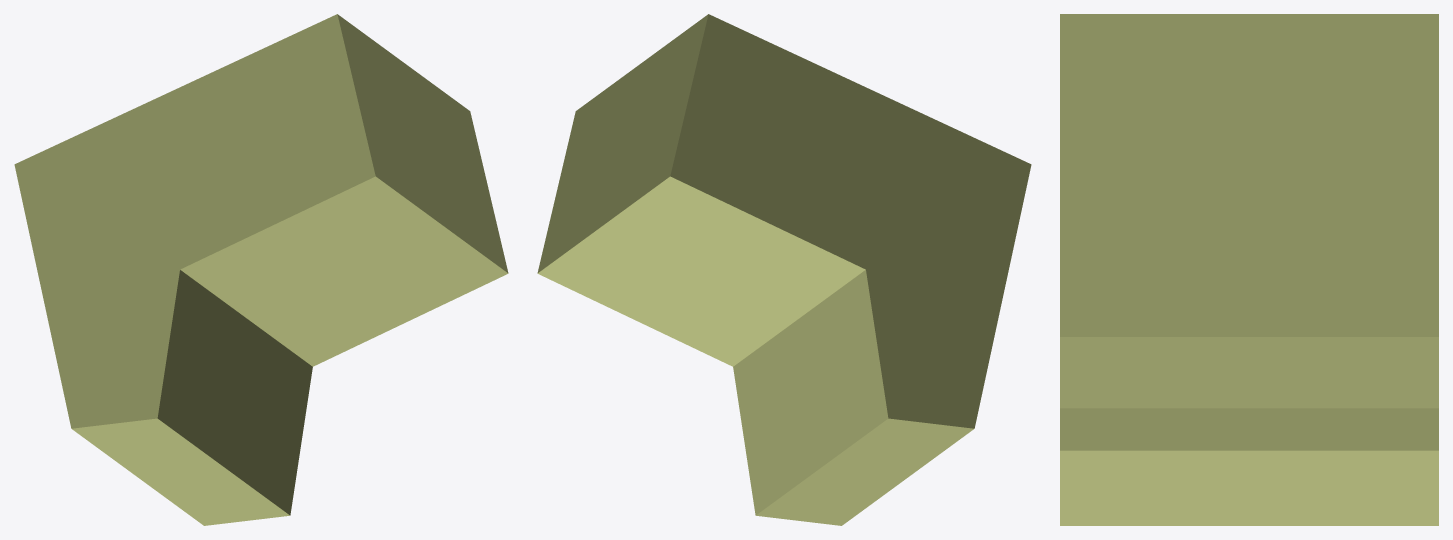
3 renders of one model, left to right at view 1: azimuth 30°, elevation 25°; view 2: azimuth 150°, elevation 25°; view 3: azimuth 270°, elevation 25°, orthographic. The views are drawn at different scales.
Visible parts, largest first — view 1: 0_1_0_1_3_3_3_1_3_3_3; view 2: 0_1_0_1_3_3_3_1_3_3_3; view 3: 0_1_0_1_3_3_3_1_3_3_3.
Boxes of the visible parts, <box> form: 0_1_0_1_3_3_3_1_3_3_3: <box>14,14,508,525</box>; 0_1_0_1_3_3_3_1_3_3_3: <box>537,14,1031,525</box>; 0_1_0_1_3_3_3_1_3_3_3: <box>1060,14,1438,525</box>.
Size of the model in its own units: 9.42 by 8.99 by 6.
